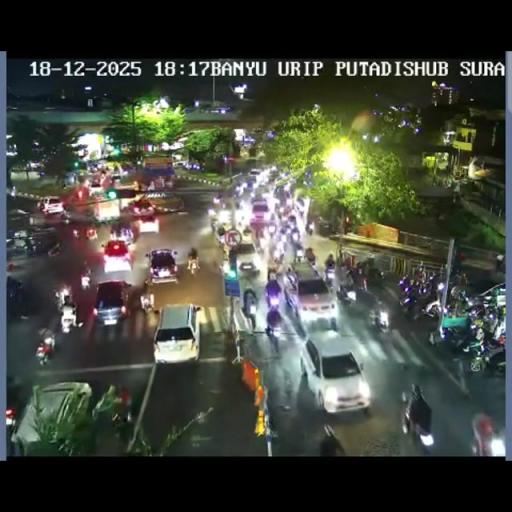Car: (10, 380, 94, 456), (296, 332, 370, 413), (290, 262, 334, 330), (152, 302, 200, 364), (93, 280, 132, 326), (233, 237, 261, 279), (146, 247, 178, 283), (102, 240, 134, 273), (142, 192, 185, 216), (92, 195, 121, 223), (110, 222, 134, 245), (250, 199, 270, 226), (136, 210, 160, 232), (38, 196, 64, 215), (314, 215, 336, 235), (88, 179, 105, 194), (243, 178, 256, 191), (248, 168, 262, 177), (110, 172, 122, 182)
Motorcycle: (433, 315, 477, 355), (265, 260, 298, 306), (268, 358, 295, 414), (422, 284, 462, 321), (470, 413, 504, 454), (405, 408, 435, 454), (480, 340, 506, 376), (452, 355, 470, 396), (402, 292, 424, 322), (59, 302, 79, 332), (5, 407, 18, 453), (6, 277, 24, 308), (334, 277, 354, 304), (368, 304, 388, 331), (490, 308, 506, 340), (266, 306, 282, 336), (414, 276, 434, 299), (364, 266, 386, 286), (243, 289, 257, 320), (110, 410, 130, 431), (464, 302, 487, 320), (35, 341, 51, 366), (289, 232, 303, 259), (398, 274, 415, 296), (140, 290, 154, 313), (272, 243, 286, 265), (186, 256, 200, 275), (80, 266, 92, 288), (454, 270, 468, 288), (209, 211, 220, 233), (323, 266, 335, 286), (46, 242, 62, 256), (220, 256, 231, 275), (220, 240, 230, 260), (25, 237, 36, 255), (254, 226, 265, 243), (266, 264, 276, 281), (60, 208, 71, 223), (53, 289, 62, 307), (358, 274, 368, 290), (266, 220, 277, 234), (305, 250, 315, 265), (242, 224, 252, 237), (212, 194, 222, 205), (71, 228, 80, 238), (307, 223, 314, 235), (61, 182, 66, 190)
